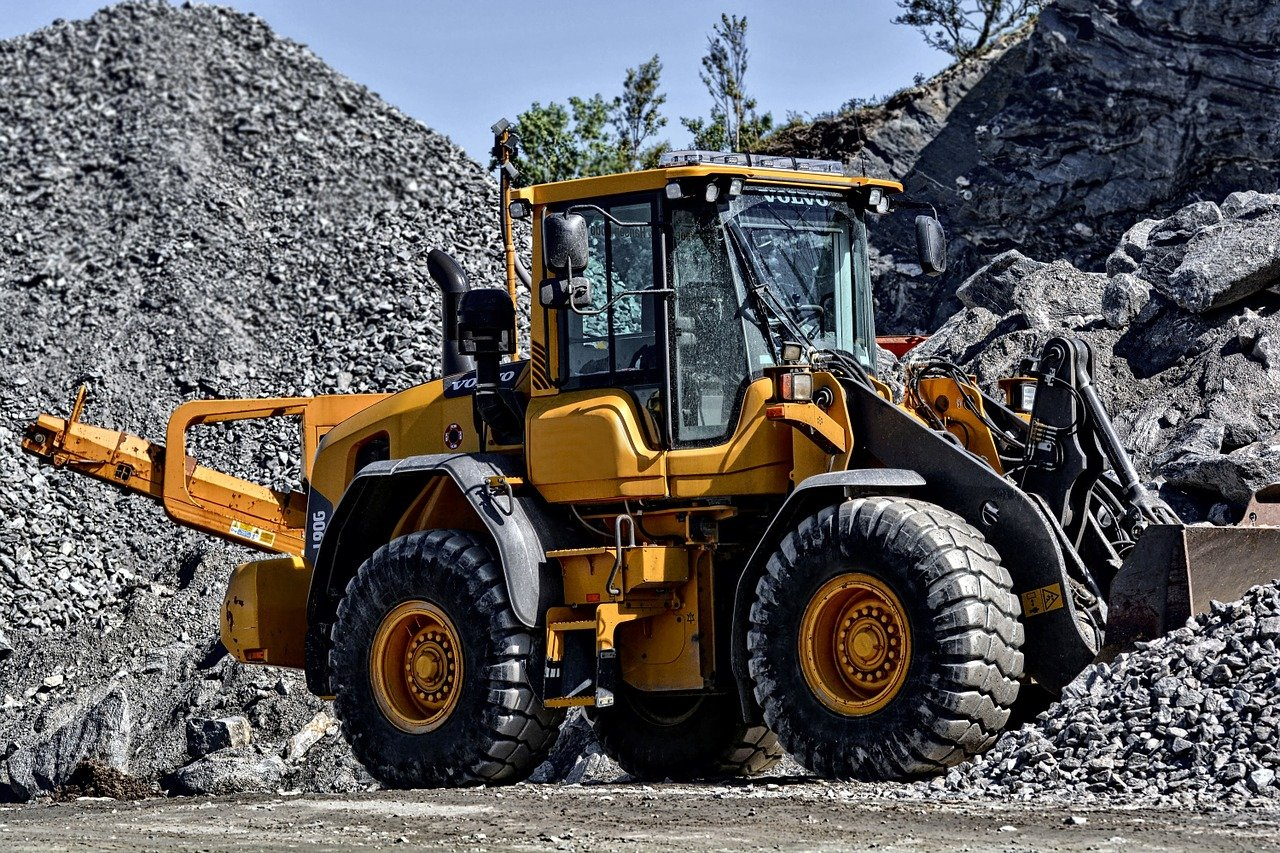bulldozer: (24, 152, 1273, 781)
